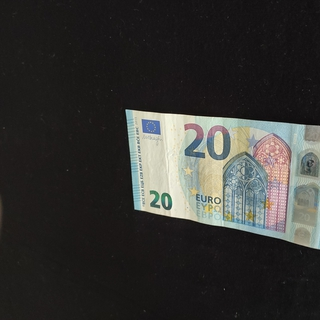20EUROFront: (124, 108, 320, 251)
